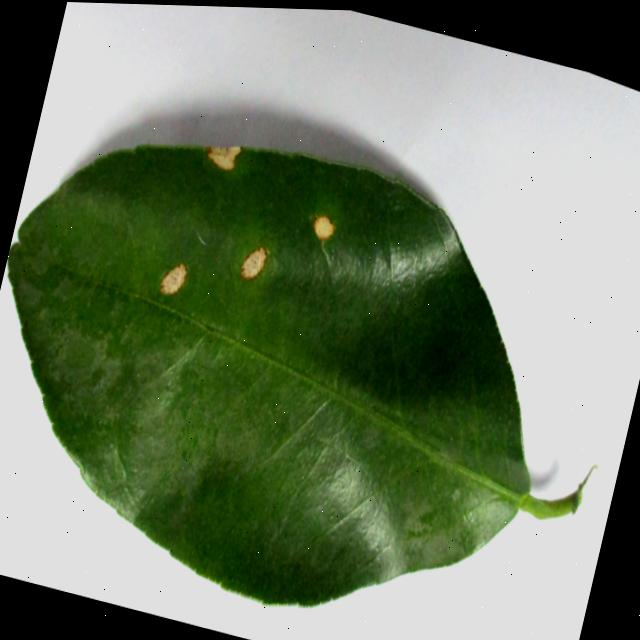antracnose: (7, 145, 580, 605), (240, 245, 266, 278), (159, 262, 186, 293), (206, 145, 240, 168), (312, 214, 333, 238)
